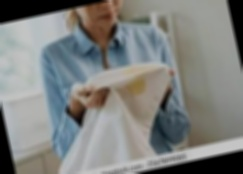mustard: (121, 73, 150, 102)
